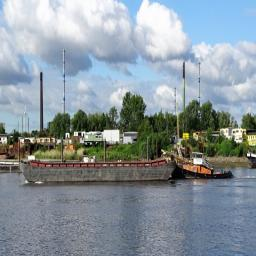tugboat: (177, 144, 235, 184)
